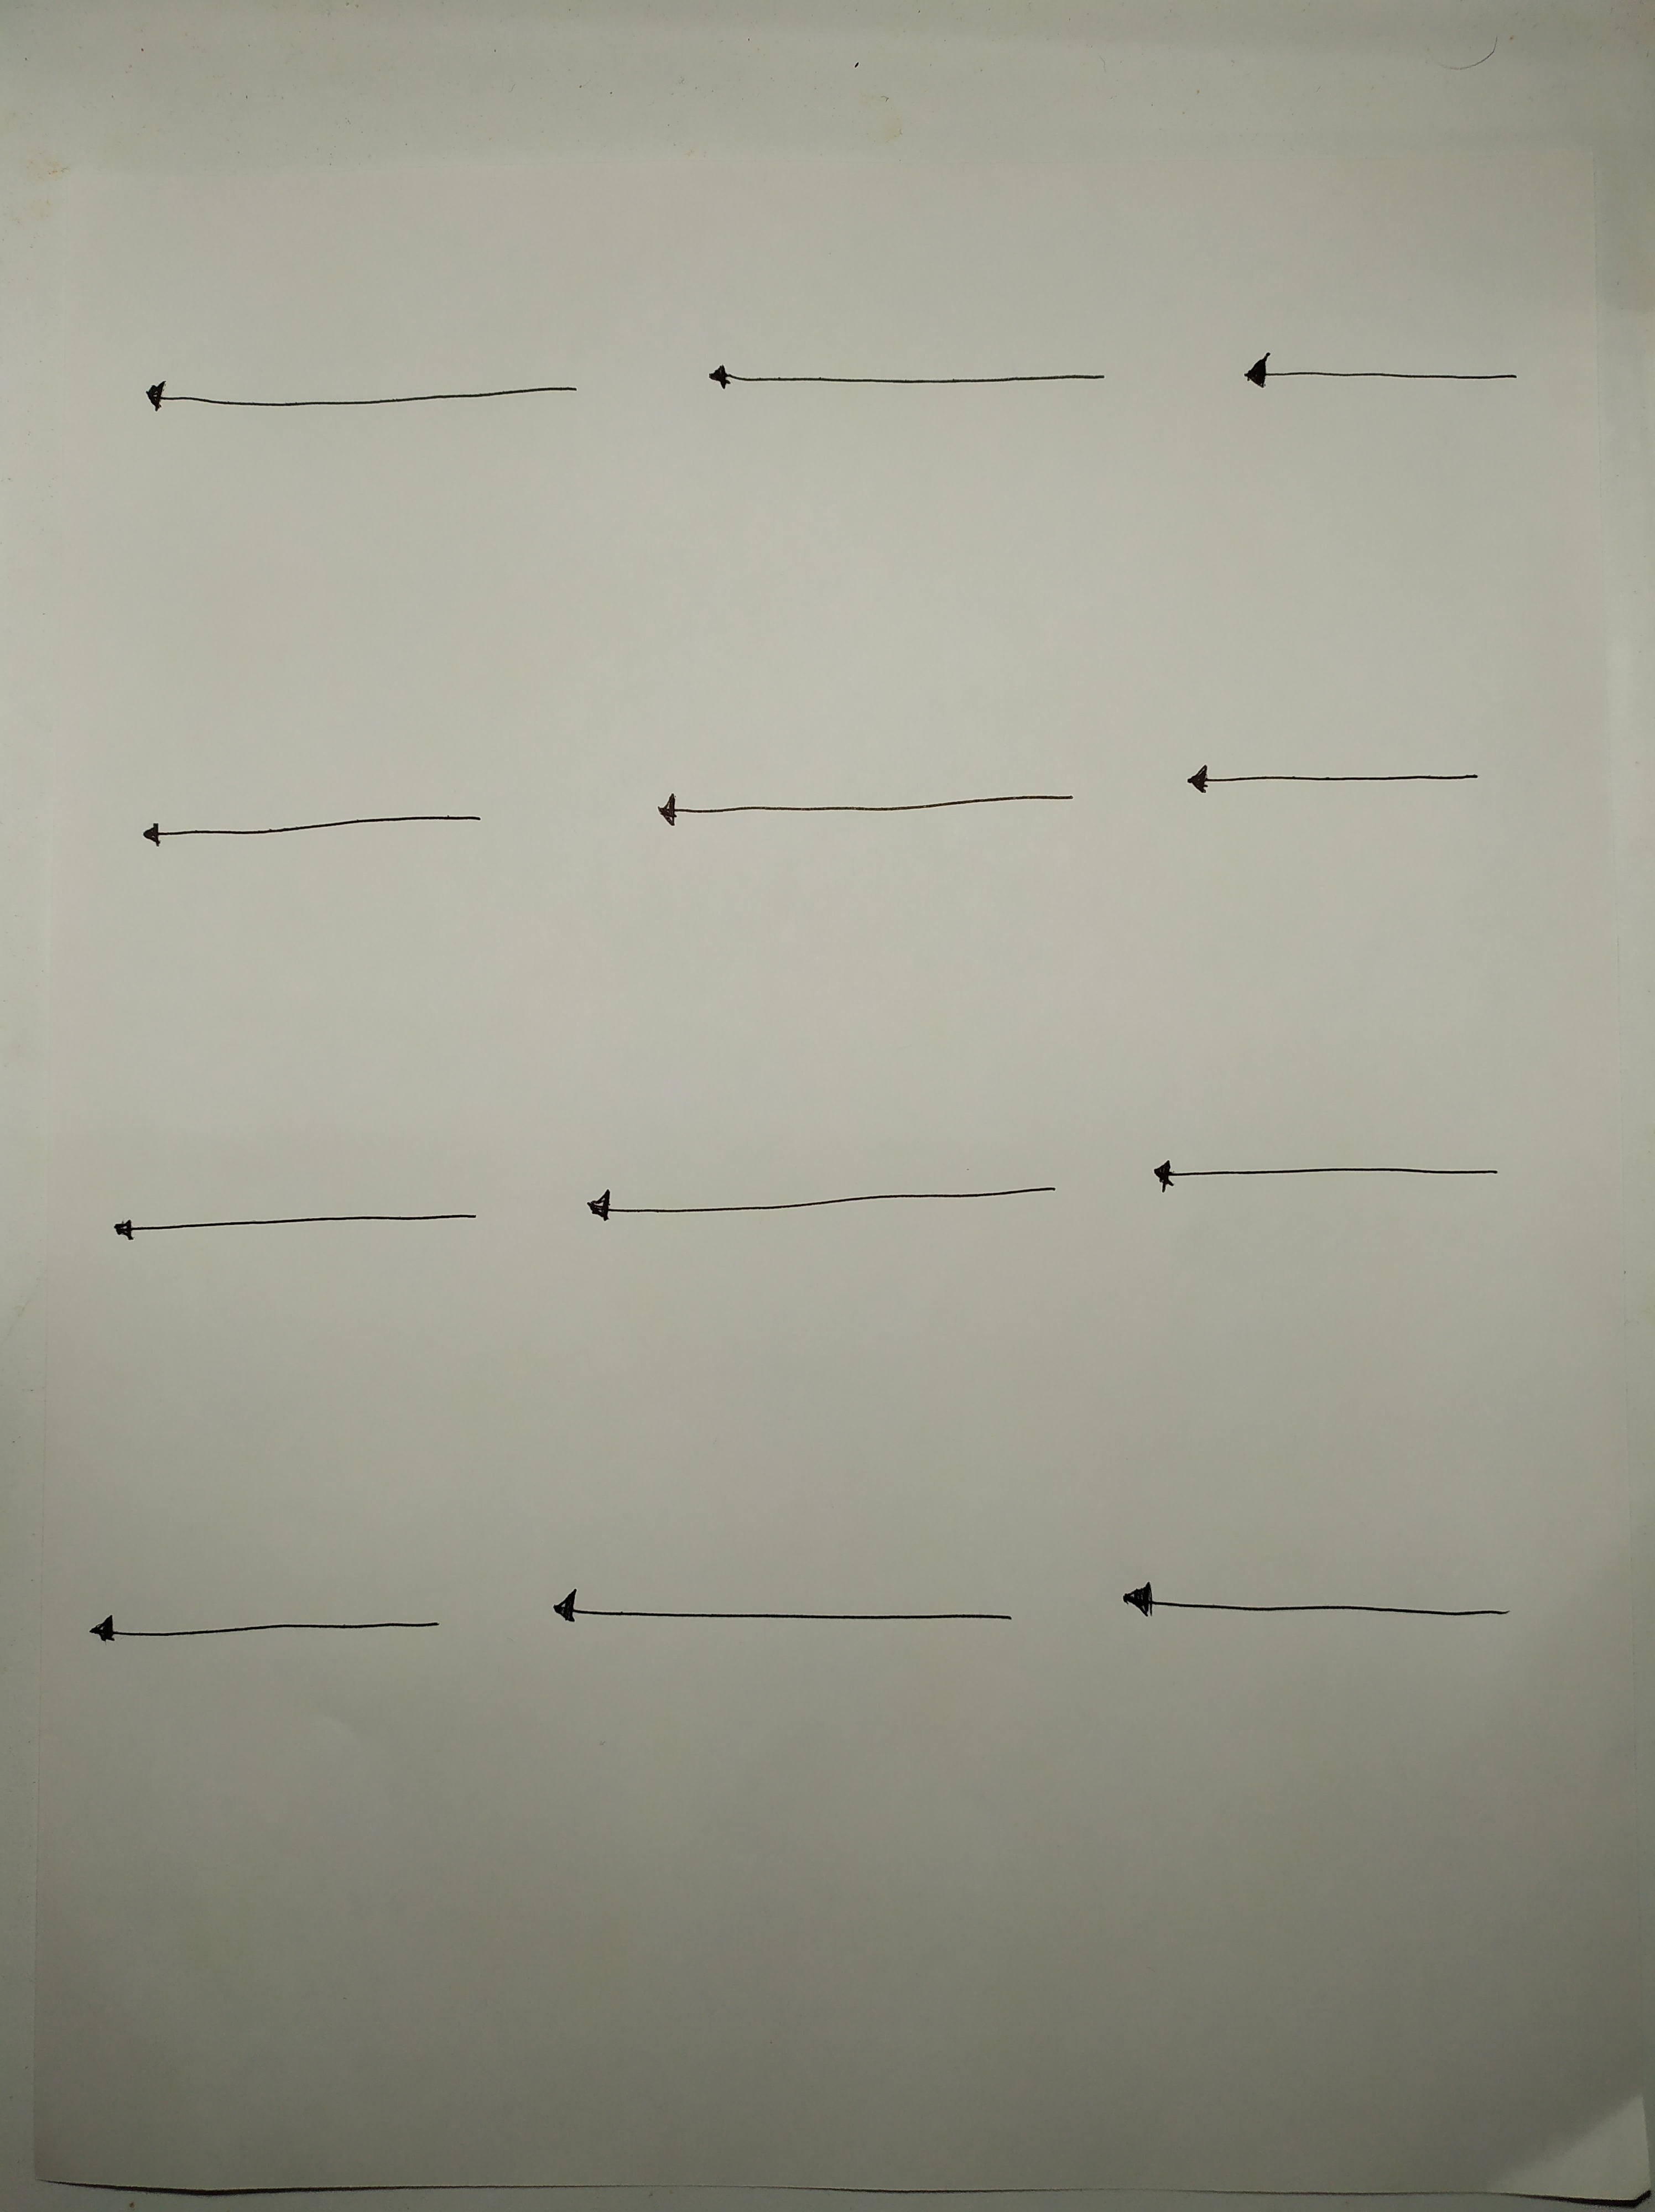arrow_line_left: (516, 1562, 1052, 1670), (548, 1156, 1090, 1253), (99, 354, 621, 452), (1081, 1550, 1537, 1656), (675, 346, 1133, 440), (617, 763, 1102, 850), (54, 1585, 468, 1677), (90, 1182, 501, 1272), (1120, 1140, 1535, 1229), (1151, 742, 1519, 827), (99, 784, 506, 857), (1215, 332, 1535, 412)
